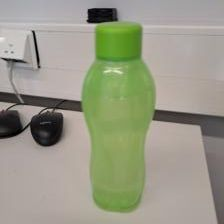bottle: (78, 19, 159, 212)
